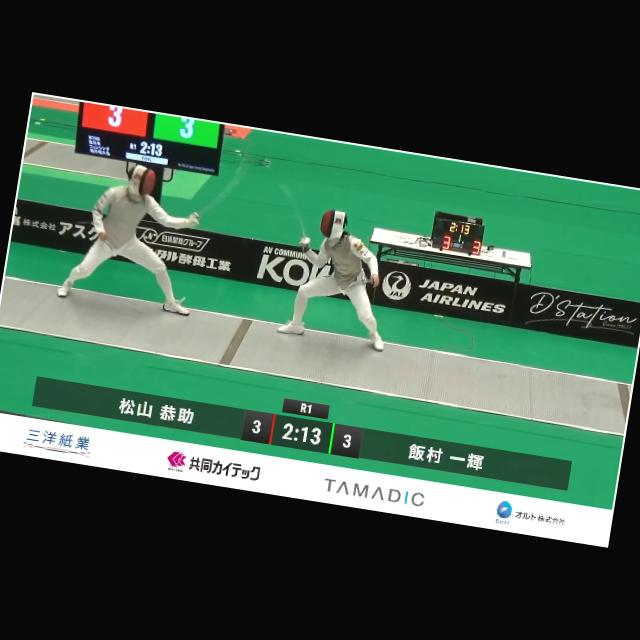blade: (184, 141, 252, 236), (264, 175, 324, 252)
